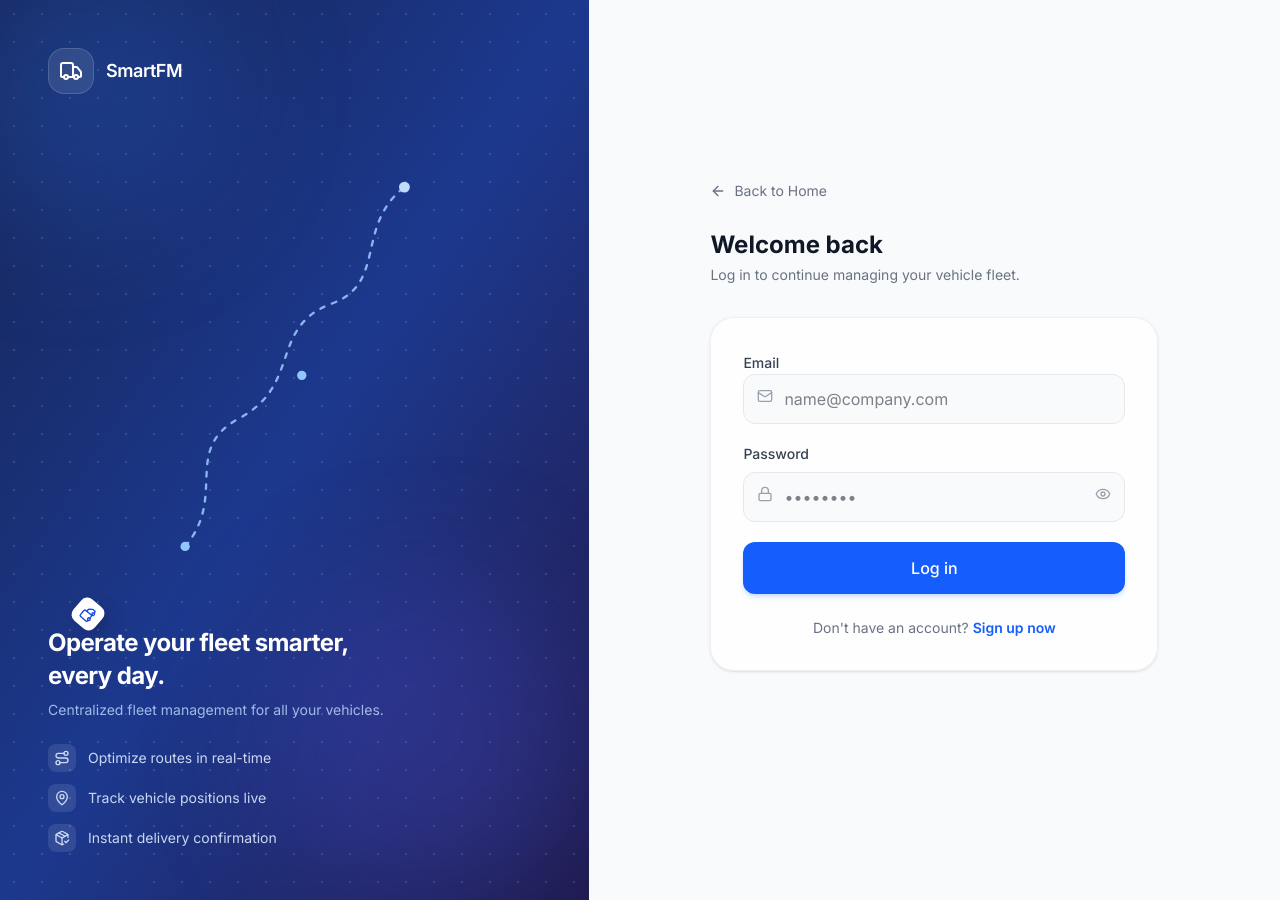
it: Login Component › shows validation errors for empty fields on submit
Click the button "Log in": (934, 568) [743,542,1125,594]
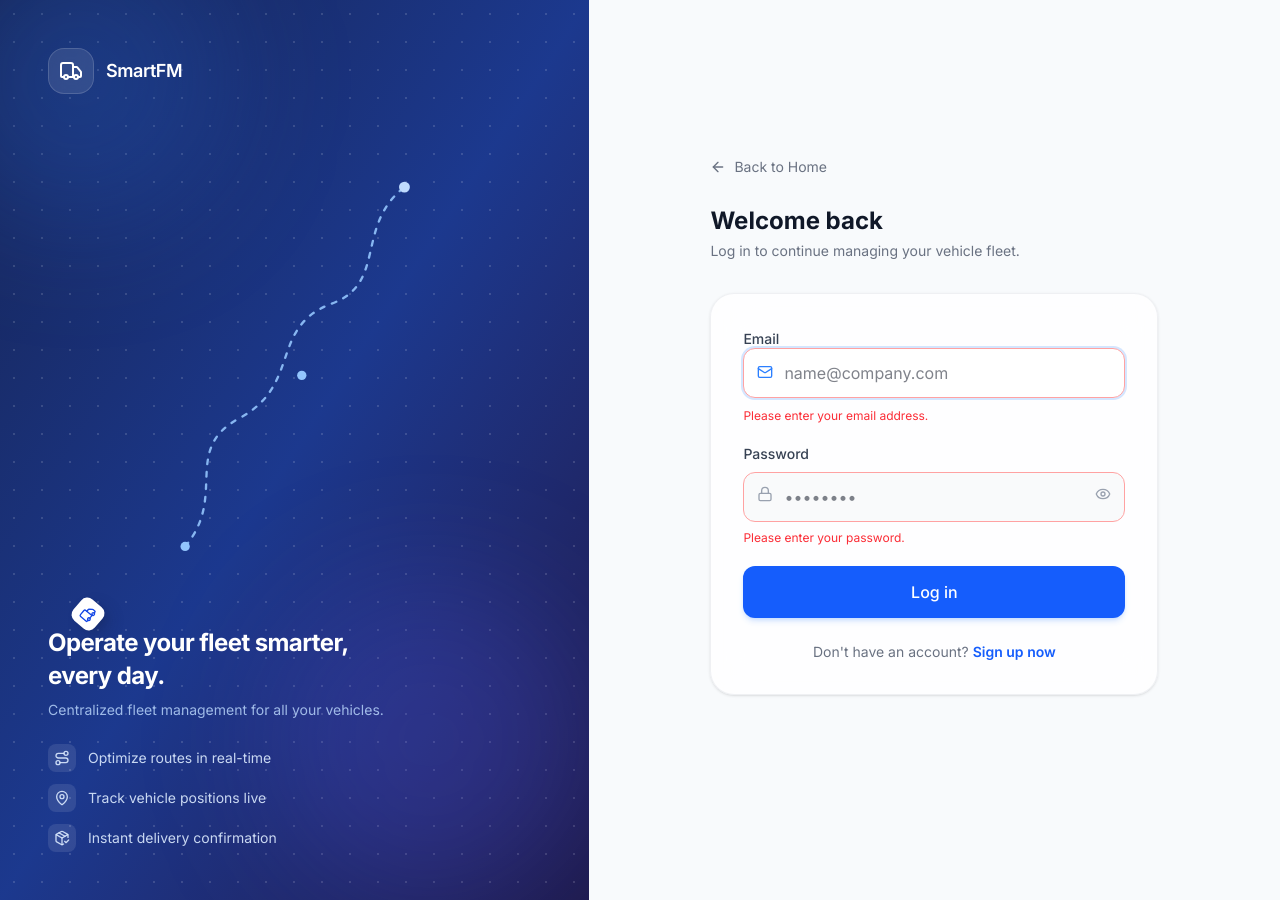
Expected: the text "Please enter your email address." is shown, [743,408,928,423]
Expected: the text "Please enter your password." is shown, [743,530,905,545]
